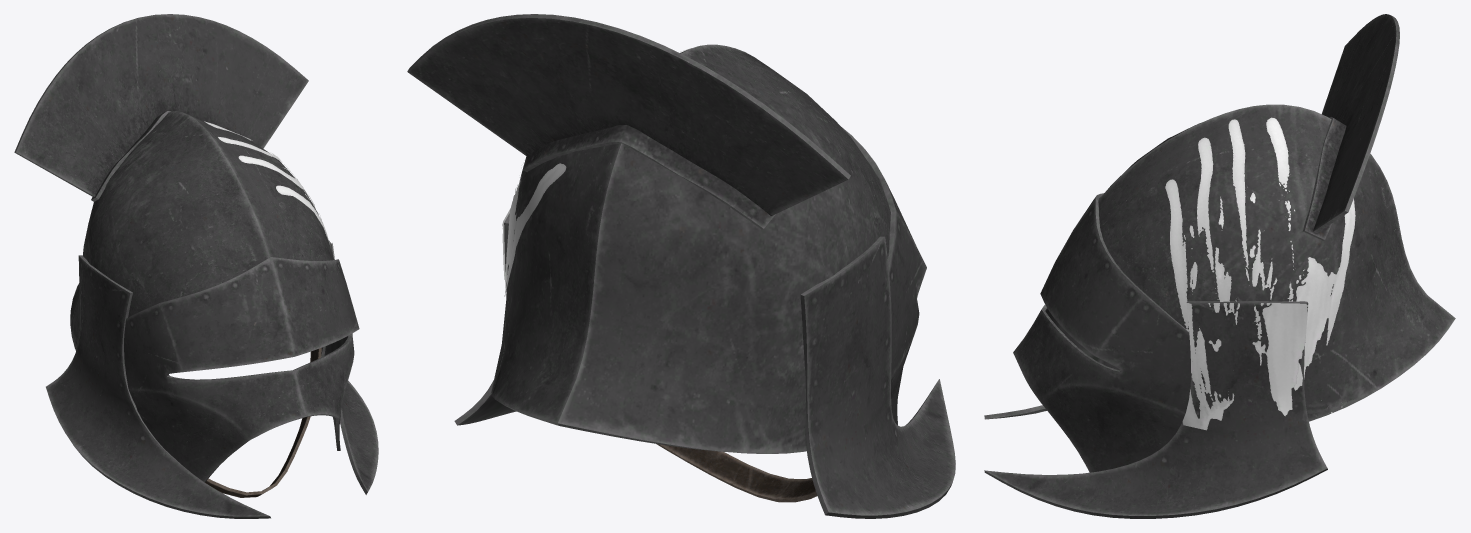
Rendered from sk_uruk_hai_helmet_sword_heavy_a2.fbx.
The picture shows the model from 3 angles, left to right: view 1: azimuth 30°, elevation 25°; view 2: azimuth 150°, elevation 25°; view 3: azimuth 270°, elevation 25°; orthographic projection. The views are drawn at different scales.
Visible parts, largest first — view 1: sk_uruk_hai_helmet_sword_heavy_a2.2, sk_uruk_hai_helmet_sword_heavy_a2.0, sk_uruk_hai_helmet_sword_heavy_a2.1; view 2: sk_uruk_hai_helmet_sword_heavy_a2.2, sk_uruk_hai_helmet_sword_heavy_a2.1, sk_uruk_hai_helmet_sword_heavy_a2.0; view 3: sk_uruk_hai_helmet_sword_heavy_a2.2, sk_uruk_hai_helmet_sword_heavy_a2.0.
Boxes of the visible parts, x1,y1,x2,y2 form: sk_uruk_hai_helmet_sword_heavy_a2.2: (14, 14, 378, 518); sk_uruk_hai_helmet_sword_heavy_a2.0: (204, 121, 334, 259); sk_uruk_hai_helmet_sword_heavy_a2.1: (205, 348, 321, 497); sk_uruk_hai_helmet_sword_heavy_a2.2: (407, 14, 955, 518); sk_uruk_hai_helmet_sword_heavy_a2.1: (656, 444, 817, 502); sk_uruk_hai_helmet_sword_heavy_a2.0: (502, 48, 689, 296); sk_uruk_hai_helmet_sword_heavy_a2.2: (984, 14, 1455, 518); sk_uruk_hai_helmet_sword_heavy_a2.0: (1165, 117, 1355, 430).
Size of the model in its own units: 0.2846 by 0.3449 by 0.3699.
3 materials, 3 textured.
